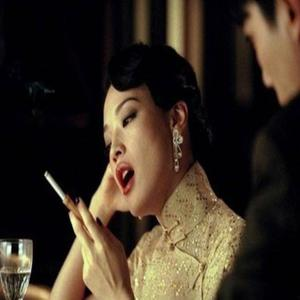cigarette: (42, 171, 72, 207)
